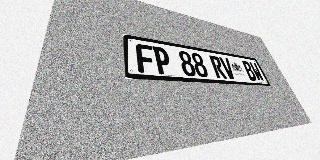8: (177, 50, 197, 77), (190, 52, 209, 77)
B: (241, 60, 258, 81)
F: (135, 43, 156, 74)
P: (152, 46, 172, 75)
R: (209, 55, 227, 79)
V: (219, 57, 237, 79)
W: (248, 62, 265, 81)
